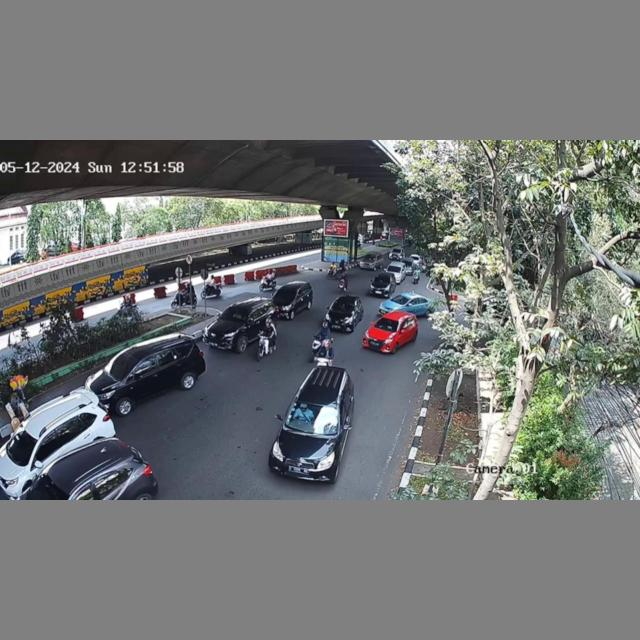windshield: (288, 400, 339, 437), (219, 305, 251, 324)
